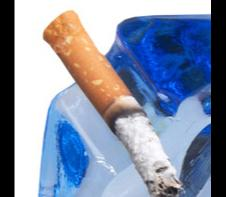Cigarette: (42, 7, 182, 197)
